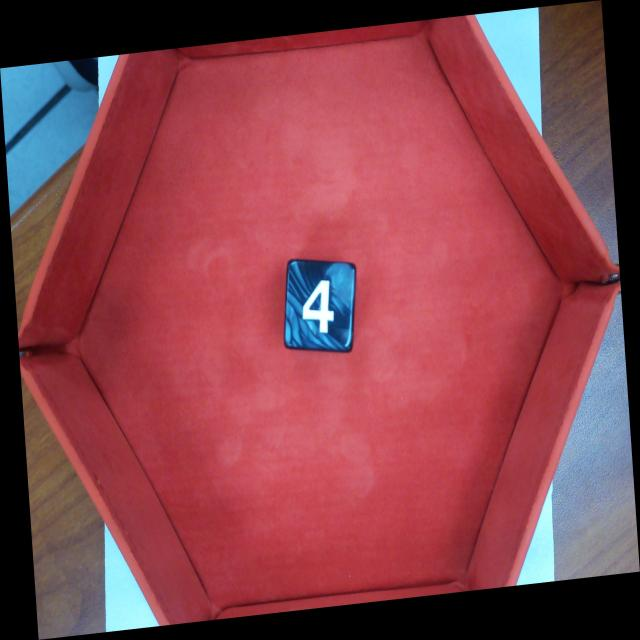dice: (282, 256, 357, 356)
